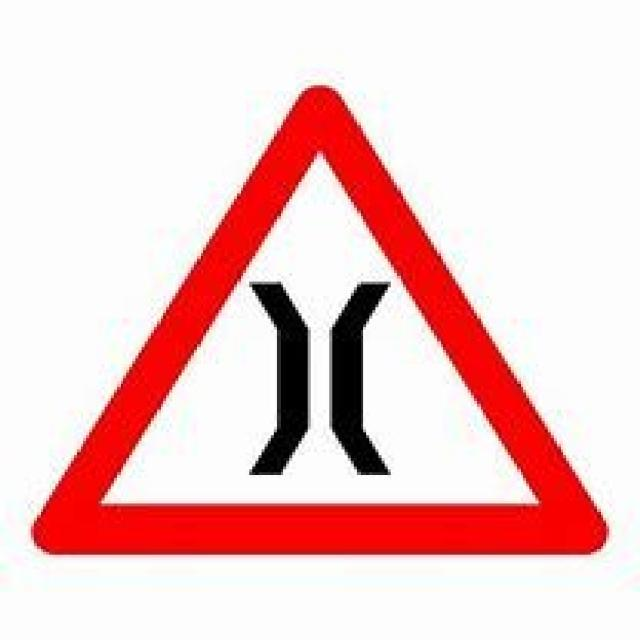narrow bridge ahead: (32, 83, 610, 557)
